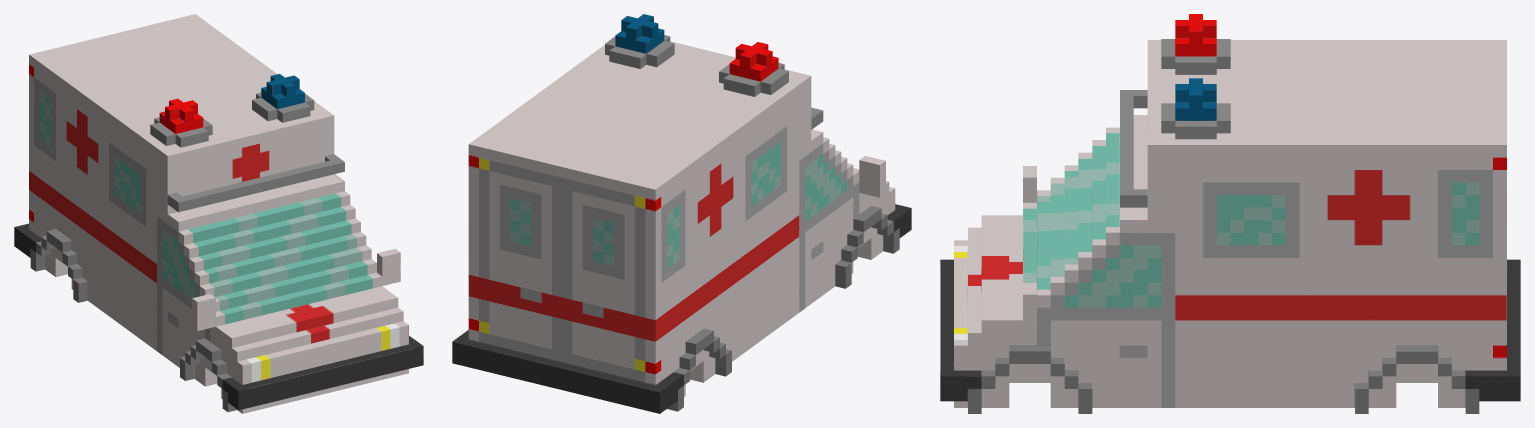
File: Ambulance.obj
3 views of the same model, side by side, from view 1: azimuth 30°, elevation 25°; view 2: azimuth 150°, elevation 25°; view 3: azimuth 270°, elevation 25° (orthographic). The views are drawn at different scales.
Visible parts, largest first — view 1: Ambulance_Ambulance.001; view 2: Ambulance_Ambulance.001; view 3: Ambulance_Ambulance.001.
Part boxes in pixels (box(x1,y1,x2,y2)): Ambulance_Ambulance.001: box(14, 14, 423, 413); Ambulance_Ambulance.001: box(452, 14, 911, 413); Ambulance_Ambulance.001: box(940, 14, 1520, 413).
Size of the model in its own units: 2.2 by 2.4 by 4.2.
